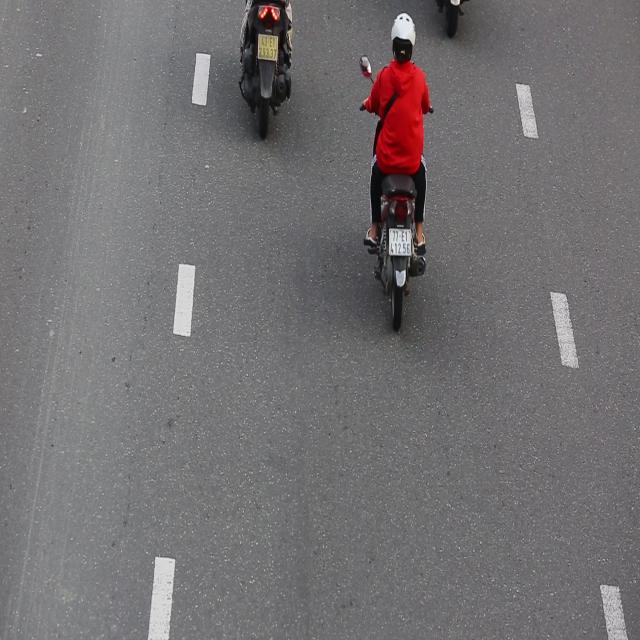motorbike: (357, 0, 437, 335)
